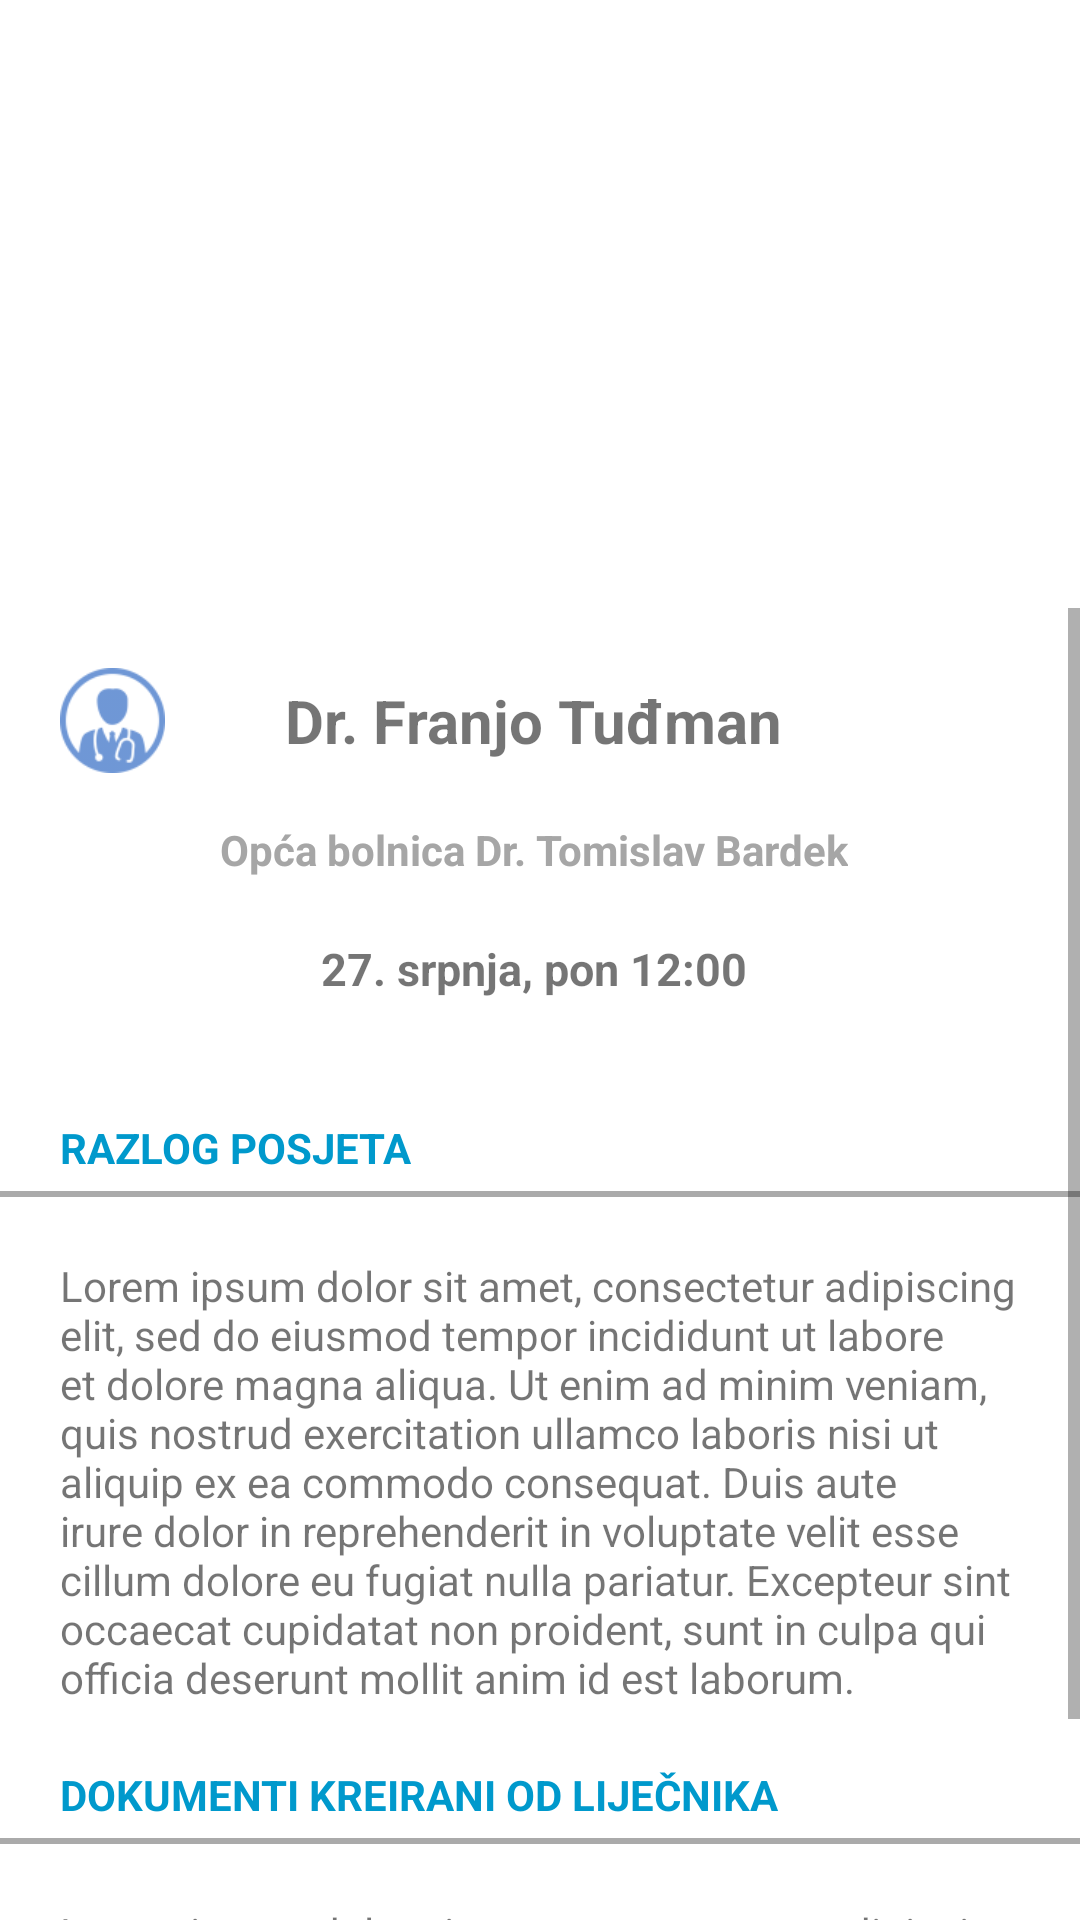

Named icons in this screenshot (1080 x 1920) and their bounding boxes, (x1, y1, x2, y2):
doctor: (60, 668, 165, 773)
